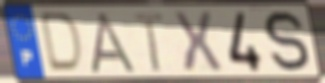4: (227, 9, 266, 74)
A: (88, 11, 142, 75)
D: (40, 11, 85, 76)
S: (262, 8, 312, 75)
T: (131, 10, 167, 75)
X: (170, 9, 225, 75)
